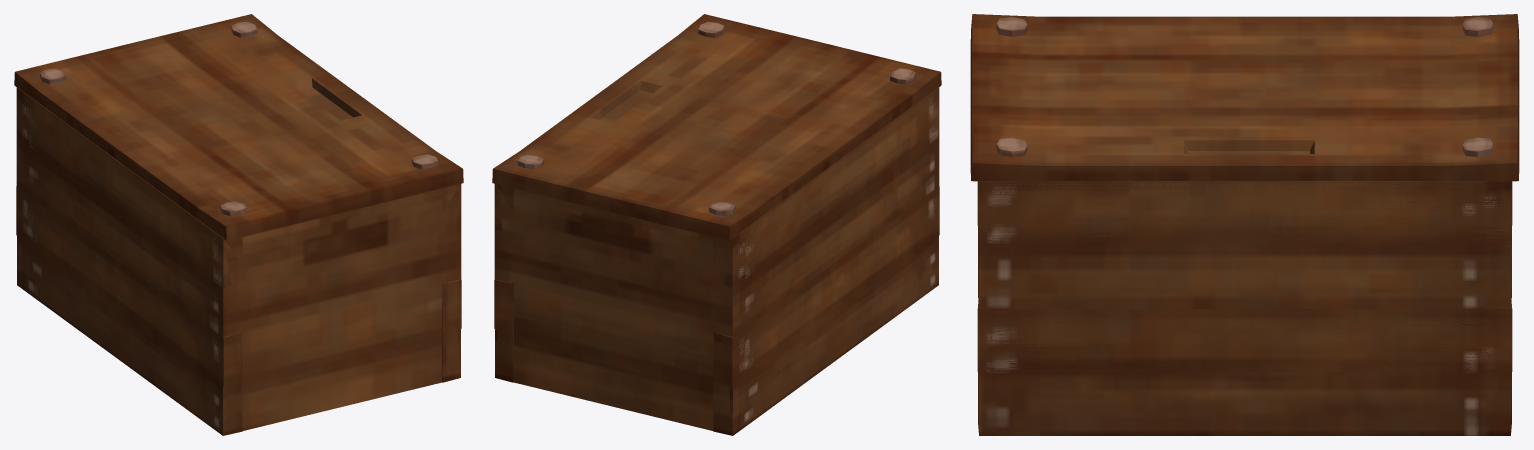
File: chCrate.fbx
The picture shows the model from 3 angles, left to right: view 1: azimuth 30°, elevation 25°; view 2: azimuth 150°, elevation 25°; view 3: azimuth 270°, elevation 25°; orthographic projection. The views are drawn at different scales.
Visible parts, largest first — view 1: CratePHY, CrateB, CrateA; view 2: CratePHY, CrateB, CrateA; view 3: CratePHY, CrateB, CrateA.
Boxes of the visible parts, x1,y1,x2,y2 form: CratePHY: (16,87,461,435); CrateB: (14,14,463,240); CrateA: (16,87,461,435); CratePHY: (494,87,939,435); CrateB: (492,14,941,240); CrateA: (494,88,939,435); CratePHY: (978,181,1511,435); CrateB: (970,14,1519,181); CrateA: (977,181,1512,432).
Bounding box in the file's own units: 0.5106 × 0.3298 × 0.2846.
